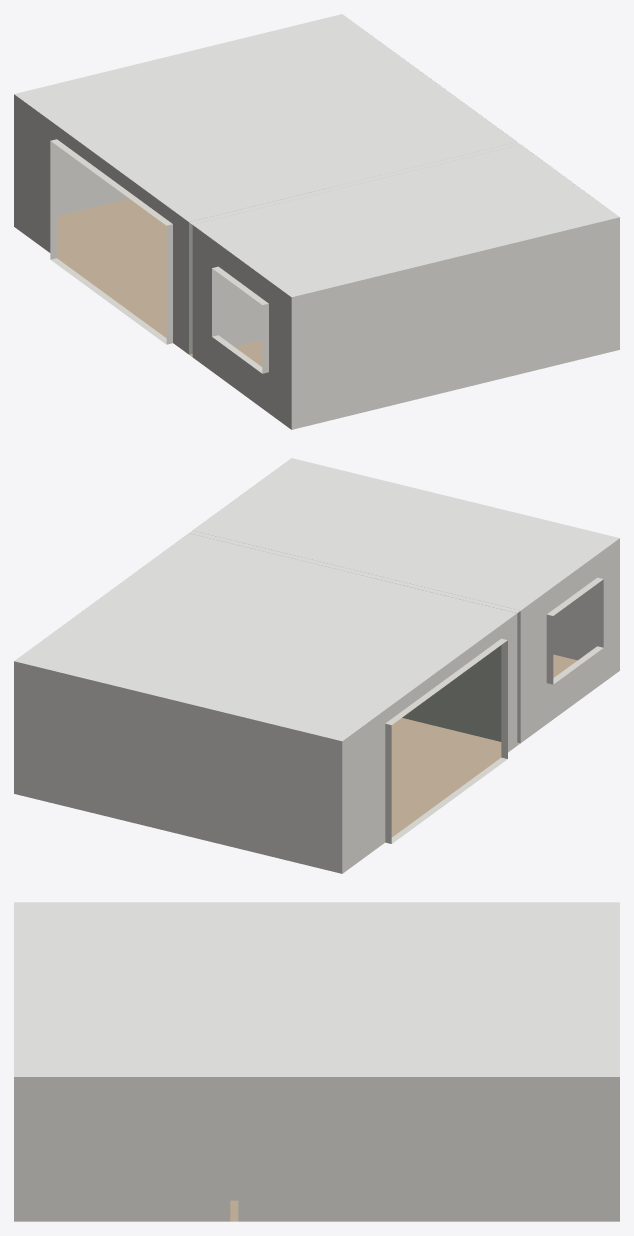
Rendered from shell.glb.
3 views of the same model, one above another, from view 1: azimuth 30°, elevation 25°; view 2: azimuth 150°, elevation 25°; view 3: azimuth 270°, elevation 25° (orthographic). The views are drawn at different scales.
Visible parts, largest first — view 1: GF_Room_Ceiling, GF_Room_Walls, GF_Floor_Living; view 2: GF_Room_Ceiling, GF_Room_Walls, GF_Floor_Living, GF_Room_FeatureWall; view 3: GF_Room_Ceiling, GF_Room_Walls.
Part boxes in pixels (x1=…): GF_Room_Ceiling: x1=14, y1=14, x2=619, y2=297; GF_Room_Walls: x1=14, y1=94, x2=619, y2=429; GF_Floor_Living: x1=57, y1=198, x2=192, y2=355; GF_Room_Ceiling: x1=14, y1=458, x2=619, y2=741; GF_Room_Walls: x1=14, y1=532, x2=619, y2=873; GF_Floor_Living: x1=391, y1=718, x2=518, y2=837; GF_Room_FeatureWall: x1=389, y1=582, x2=515, y2=741; GF_Room_Ceiling: x1=14, y1=902, x2=619, y2=1076; GF_Room_Walls: x1=14, y1=1077, x2=619, y2=1221.
Size of the model in its own units: 7.66 by 2.9 by 11.
